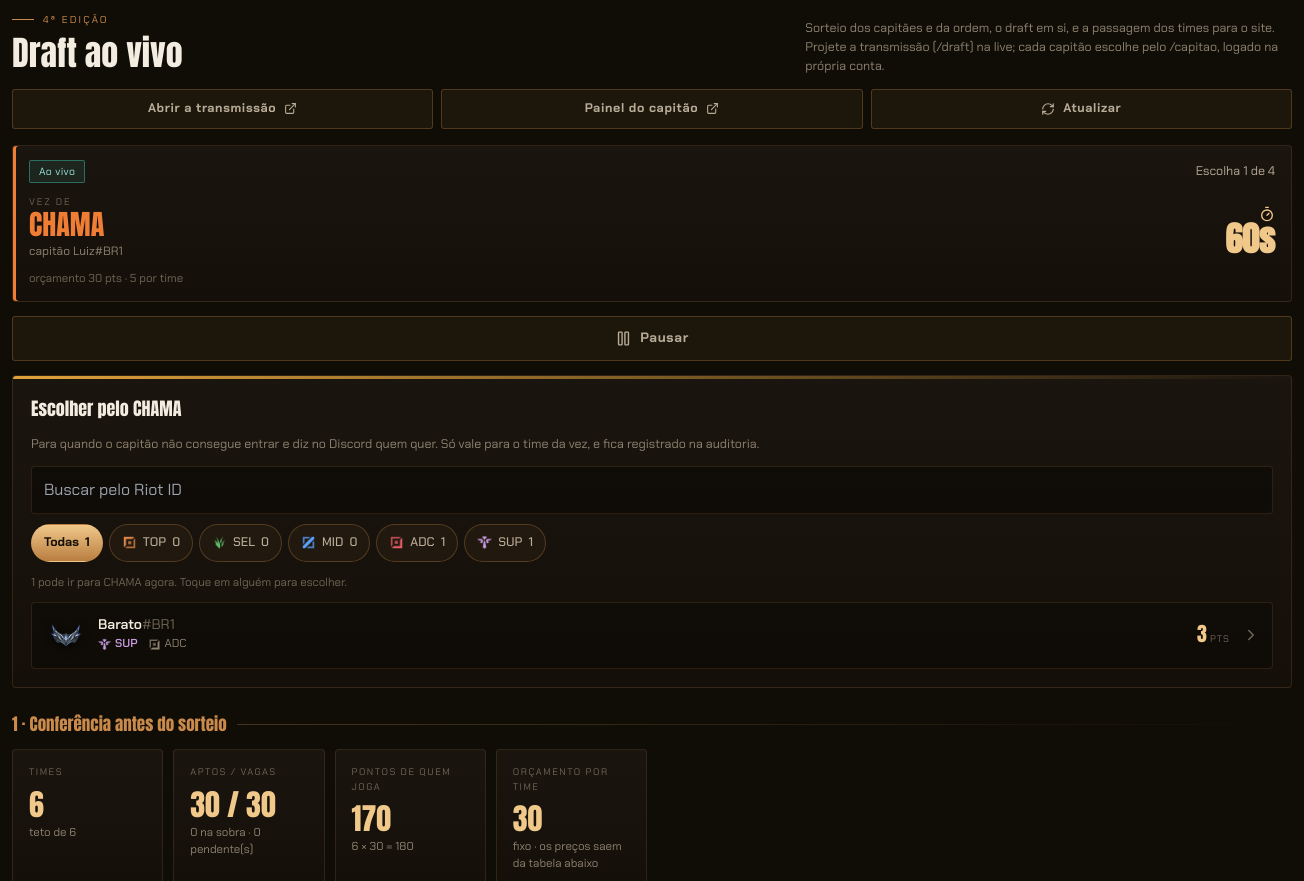
Test: Draft ao vivo no celular › buscar alguém que não cabe mostra o porquê, sem deixar escolher
The image size is (1304, 881).
In the search field named "Buscar jogador no pool": (652, 490) [31,466,1273,514], type "caro"
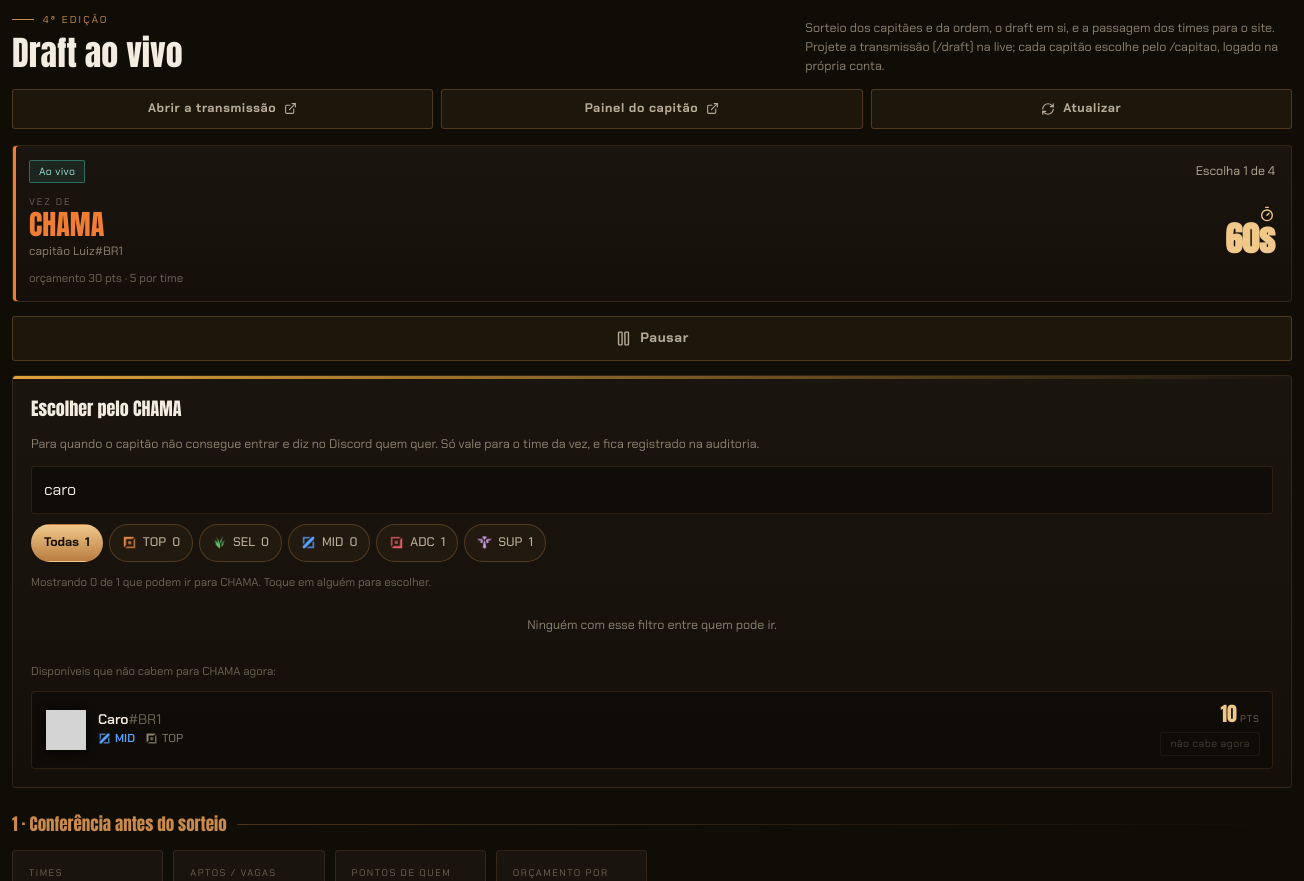
Now the text "não cabe agora" is shown, box [1160,732,1260,756]
